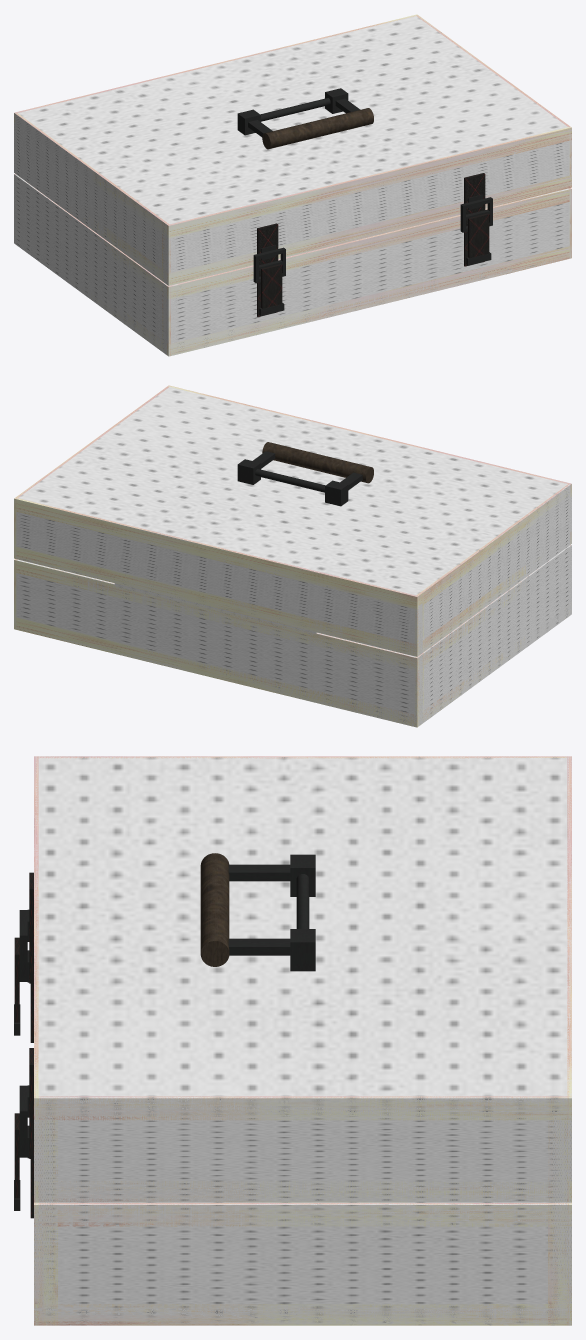
The model's file is Bag_Suitcase_Suitcase__0001.glb.
3 renders of one model, top to bottom at view 1: azimuth 30°, elevation 25°; view 2: azimuth 150°, elevation 25°; view 3: azimuth 270°, elevation 25°, orthographic. The views are drawn at different scales.
Parts seen in each view (by area): view 1: suitcase_lid::shell_panel, suitcase_body::wall_front, suitcase_lid::wall_front, suitcase_body::wall_left, suitcase_lid::wall_left, suitcase_lid::lid_band_1, suitcase_body::body_band_0, suitcase_body::body_band_1, suitcase_lid::lid_band_0, suitcase_body::shell_panel, folding_handle::handle_grip, suitcase_lid::lid_band_5 (+10 smaller); view 2: suitcase_lid::shell_panel, suitcase_body::wall_back, suitcase_lid::wall_back, suitcase_body::wall_left, suitcase_lid::wall_left, suitcase_lid::lid_band_3, suitcase_lid::lid_band_2, suitcase_body::body_band_2, suitcase_body::body_band_3, suitcase_lid::lid_band_5, folding_handle::handle_grip, suitcase_body::shell_panel (+9 smaller); view 3: suitcase_lid::shell_panel, suitcase_body::wall_right, suitcase_lid::wall_right, suitcase_lid::lid_band_7, suitcase_body::body_band_7, suitcase_body::body_band_6, suitcase_body::shell_panel, suitcase_lid::lid_band_6, folding_handle::handle_grip, suitcase_body::body_band_9, suitcase_body::body_band_11, suitcase_body::wall_back (+13 smaller).
Part boxes in pixels (box(x1,y1,x2,y2)): suitcase_lid::shell_panel: box(14, 16, 567, 234); suitcase_body::wall_front: box(163, 190, 569, 355); suitcase_lid::wall_front: box(163, 140, 571, 284); suitcase_body::wall_left: box(14, 174, 177, 352); suitcase_lid::wall_left: box(14, 123, 177, 280); suitcase_lid::lid_band_1: box(167, 126, 571, 238); suitcase_body::body_band_0: box(167, 246, 569, 356); suitcase_body::body_band_1: box(167, 189, 569, 299); suitcase_lid::lid_band_0: box(167, 175, 571, 285); suitcase_body::shell_panel: box(39, 256, 527, 354); folding_handle::handle_grip: box(262, 108, 373, 149); suitcase_lid::lid_band_5: box(15, 113, 169, 236); suitcase_lid::shell_panel: box(18, 387, 571, 603); suitcase_body::wall_back: box(16, 561, 422, 726); suitcase_lid::wall_back: box(16, 511, 422, 656); suitcase_body::wall_left: box(408, 544, 571, 726); suitcase_lid::wall_left: box(410, 494, 571, 653); suitcase_lid::lid_band_3: box(14, 497, 418, 609); suitcase_lid::lid_band_2: box(14, 546, 418, 656); suitcase_body::body_band_2: box(14, 617, 418, 727); suitcase_body::body_band_3: box(14, 560, 418, 670); suitcase_lid::lid_band_5: box(417, 484, 570, 607); folding_handle::handle_grip: box(262, 442, 373, 483); suitcase_body::shell_panel: box(173, 604, 571, 726); suitcase_lid::shell_panel: box(34, 756, 571, 1115); suitcase_body::wall_right: box(34, 1202, 571, 1325); suitcase_lid::wall_right: box(34, 1116, 571, 1202); suitcase_lid::lid_band_7: box(34, 1096, 571, 1120); suitcase_body::body_band_7: box(34, 1203, 571, 1226); suitcase_body::body_band_6: box(34, 1304, 571, 1325); suitcase_body::shell_panel: box(34, 1308, 571, 1325); suitcase_lid::lid_band_6: box(39, 1181, 567, 1202); folding_handle::handle_grip: box(200, 853, 229, 966); suitcase_body::body_band_9: box(34, 1203, 57, 1325); suitcase_body::body_band_11: box(548, 1203, 571, 1325); suitcase_body::wall_back: box(552, 1202, 571, 1325).
Bounding box in the file's own units: 0.5065 × 0.1778 × 0.3492.
7 materials, 7 textured.
